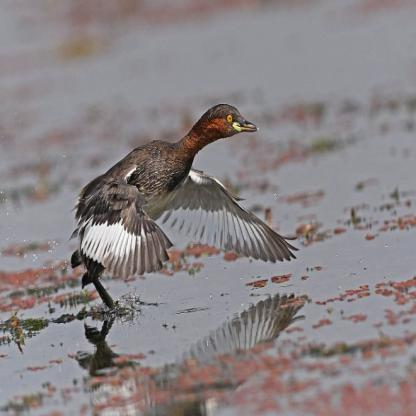Burung: (70, 103, 299, 314)
